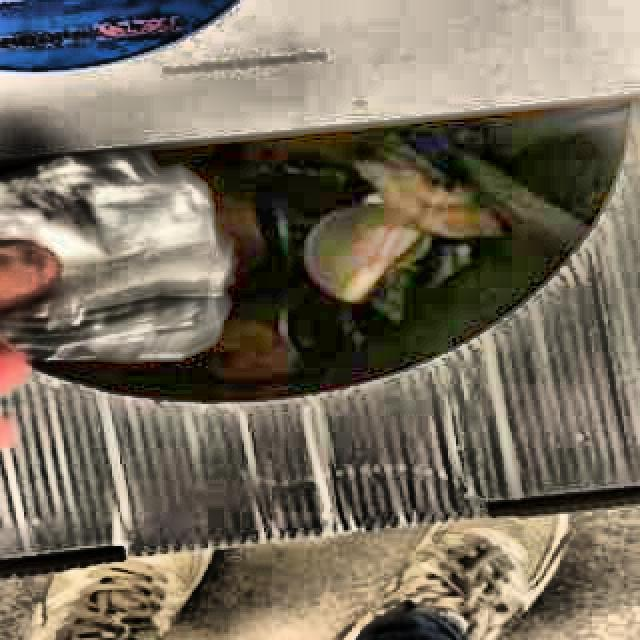metal: (0, 150, 232, 362)
